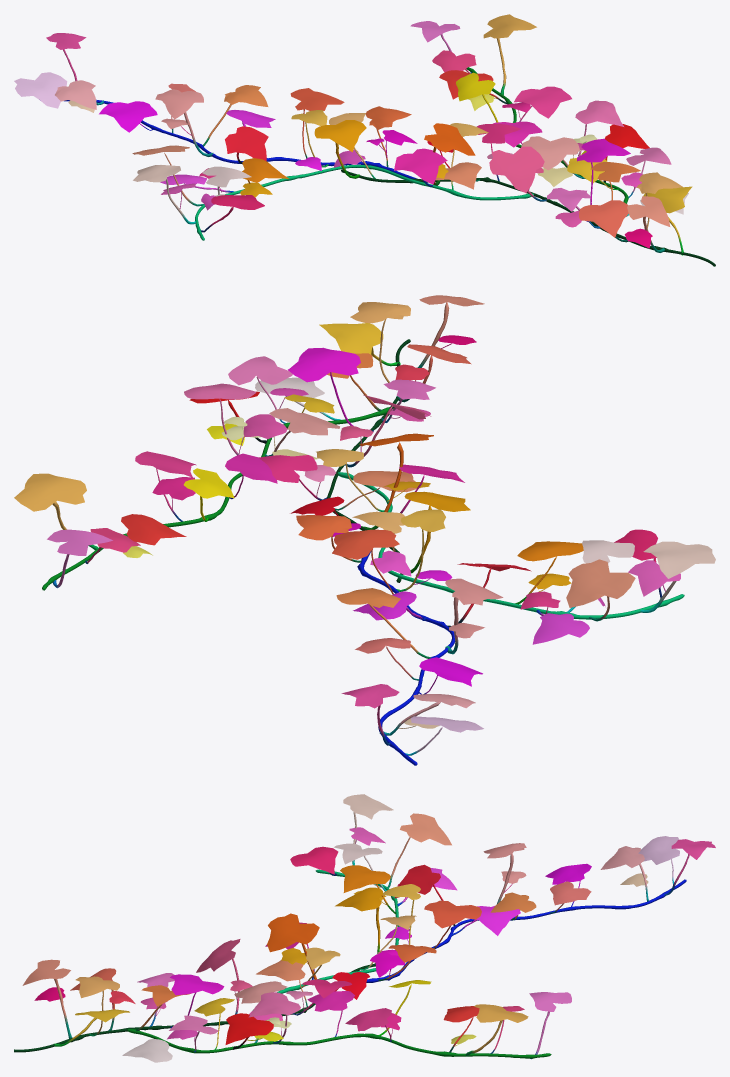
Rendered from English_Ivy_xfcnebhqx_High_xfcnebhqx_VarE_LOD0.fbx.
3 renders of one model, top to bottom at view 1: azimuth 30°, elevation 25°; view 2: azimuth 150°, elevation 25°; view 3: azimuth 270°, elevation 25°, orthographic. The views are drawn at different scales.
Parts seen in each view (by area): view 1: _6gbq_VarE_LOD0; view 2: _6gbq_VarE_LOD0; view 3: _6gbq_VarE_LOD0.
Boxes of the visible parts, bbox=[...] form: _6gbq_VarE_LOD0: bbox=[14, 14, 715, 266]; _6gbq_VarE_LOD0: bbox=[14, 295, 715, 765]; _6gbq_VarE_LOD0: bbox=[14, 794, 715, 1062].
Bounding box in the file's own units: 85.17 × 11.63 × 111.
